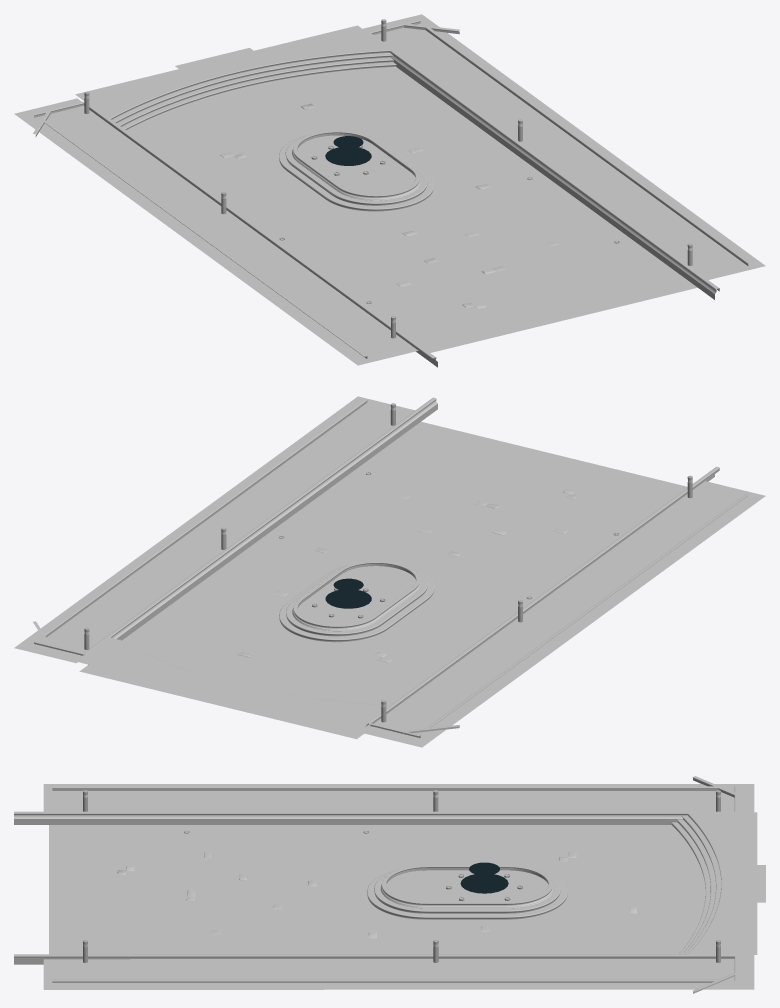
File: Hotelentrance.fbx
3 views of the same model, one above another, from view 1: azimuth 30°, elevation 25°; view 2: azimuth 150°, elevation 25°; view 3: azimuth 270°, elevation 25° (orthographic). The views are drawn at different scales.
Visible parts, largest first — view 1: LODGroup_1_MainMesh_1_SubMesh_2, LODGroup_1_MainMesh_1_SubMesh_3, LODGroup_1_MainMesh_1_SubMesh_1, LODGroup_1_MainMesh_1_SubMesh_6, LODGroup_1_MainMesh_1_SubMesh_4, LODGroup_1_MainMesh_1_SubMesh_5; view 2: LODGroup_1_MainMesh_1_SubMesh_2, LODGroup_1_MainMesh_1_SubMesh_3, LODGroup_1_MainMesh_1_SubMesh_1, LODGroup_1_MainMesh_1_SubMesh_6, LODGroup_1_MainMesh_1_SubMesh_4, LODGroup_1_MainMesh_1_SubMesh_5; view 3: LODGroup_1_MainMesh_1_SubMesh_2, LODGroup_1_MainMesh_1_SubMesh_3, LODGroup_1_MainMesh_1_SubMesh_1, LODGroup_1_MainMesh_1_SubMesh_6, LODGroup_1_MainMesh_1_SubMesh_4, LODGroup_1_MainMesh_1_SubMesh_5.
Part boxes in pixels (bbox=[...]): LODGroup_1_MainMesh_1_SubMesh_2: bbox=[127, 67, 697, 352]; LODGroup_1_MainMesh_1_SubMesh_3: bbox=[14, 14, 765, 365]; LODGroup_1_MainMesh_1_SubMesh_1: bbox=[32, 19, 750, 367]; LODGroup_1_MainMesh_1_SubMesh_6: bbox=[75, 25, 415, 194]; LODGroup_1_MainMesh_1_SubMesh_4: bbox=[325, 136, 371, 165]; LODGroup_1_MainMesh_1_SubMesh_5: bbox=[84, 19, 692, 338]; LODGroup_1_MainMesh_1_SubMesh_2: bbox=[79, 421, 687, 739]; LODGroup_1_MainMesh_1_SubMesh_3: bbox=[14, 396, 765, 747]; LODGroup_1_MainMesh_1_SubMesh_1: bbox=[33, 397, 750, 737]; LODGroup_1_MainMesh_1_SubMesh_6: bbox=[75, 566, 415, 730]; LODGroup_1_MainMesh_1_SubMesh_4: bbox=[325, 578, 371, 608]; LODGroup_1_MainMesh_1_SubMesh_5: bbox=[84, 403, 692, 722]; LODGroup_1_MainMesh_1_SubMesh_2: bbox=[49, 825, 754, 958]; LODGroup_1_MainMesh_1_SubMesh_3: bbox=[43, 784, 754, 989]; LODGroup_1_MainMesh_1_SubMesh_1: bbox=[14, 776, 738, 993]; LODGroup_1_MainMesh_1_SubMesh_6: bbox=[386, 812, 765, 954]; LODGroup_1_MainMesh_1_SubMesh_4: bbox=[460, 862, 508, 893]; LODGroup_1_MainMesh_1_SubMesh_5: bbox=[83, 790, 720, 962].
Size of the model in its own units: 2963 by 185 by 4368.
